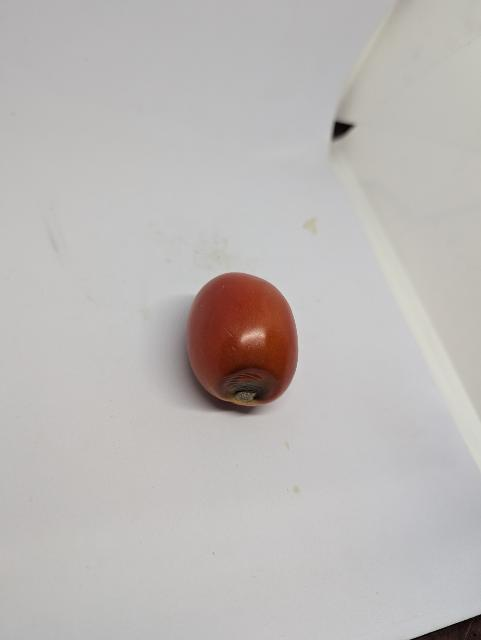defect: (183, 269, 303, 413)
